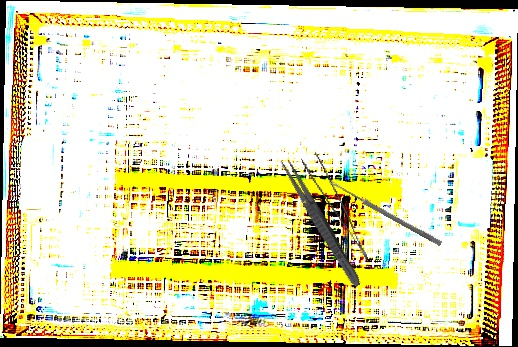Dressing Forceps: (276, 155, 365, 290)
Surgical Spoon: (329, 179, 443, 247)
Tissue Forceps: (300, 149, 369, 268)
